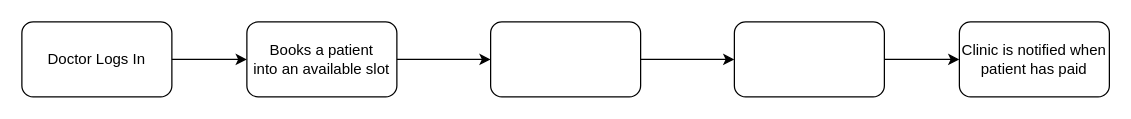
The diagram is 1131 pixels wide and 119 high, and some of its shapes have lost their labels. Here are the shapes that lost their labels. From the top down, the centre of each, then its label:
(x=565, y=59): Patient receives an email notification
(x=808, y=59): Patient pays for appointment through secure link in email
